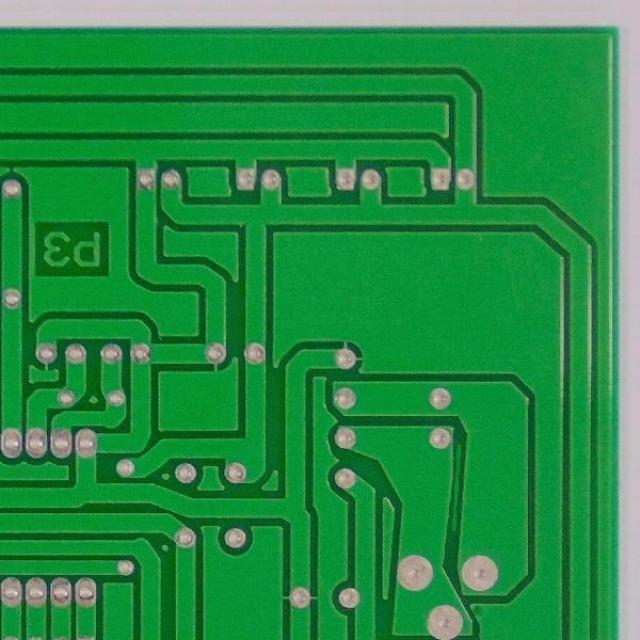Spurious_Cooper: (450, 441, 465, 537)
